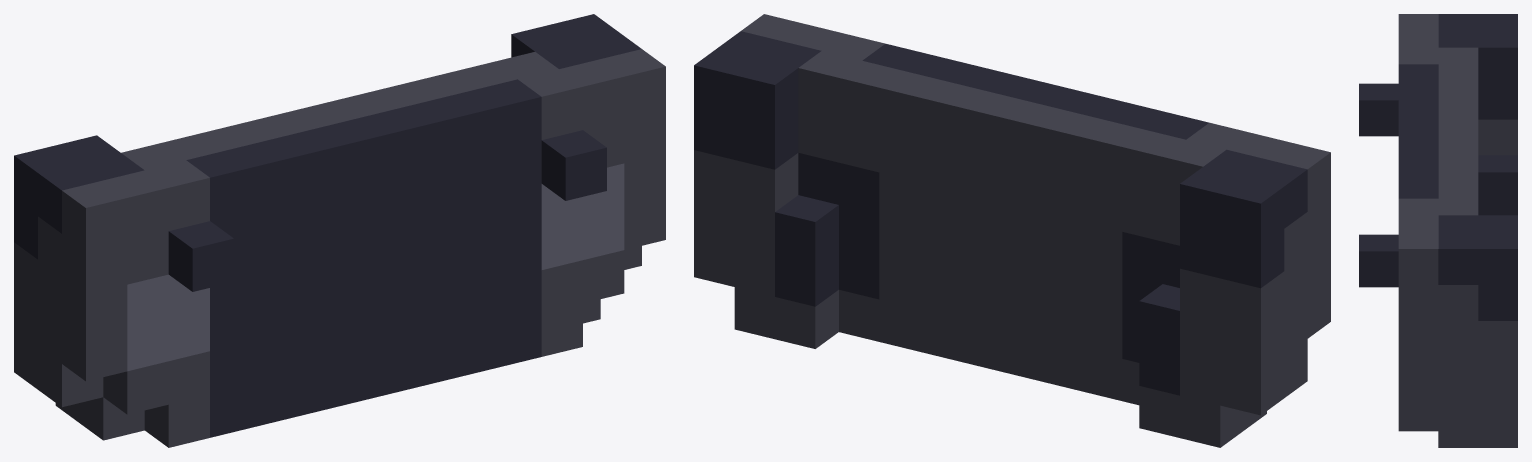
Rendered from Steam.obj.
The picture shows the model from 3 angles, left to right: view 1: azimuth 30°, elevation 25°; view 2: azimuth 150°, elevation 25°; view 3: azimuth 270°, elevation 25°; orthographic projection. The views are drawn at different scales.
Size of the model in its own units: 1.4 by 0.6 by 0.4.
Materials: 1 (1 with a texture image).
